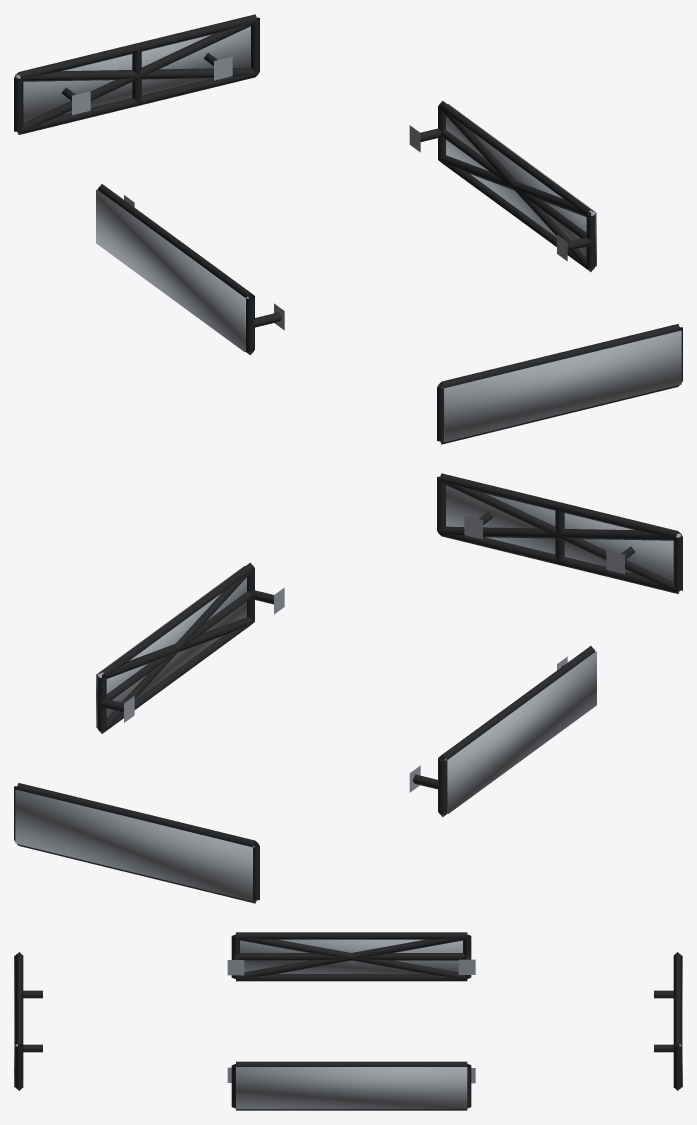
Rendered from vorhaus_ameixa_protecao.glb.
The picture shows the model from 3 angles, top to bottom: view 1: azimuth 30°, elevation 25°; view 2: azimuth 150°, elevation 25°; view 3: azimuth 270°, elevation 25°; orthographic projection. The views are drawn at different scales.
Visible parts, largest first — view 1: Protection_front_Level3_Details, Protection_left_Level3_Details, Protection_rear_Level1_Details, Protection_rear_Level3_Details, Protection_right_Level1_Details, Protection_rear_Level2_Details, Protection_right_Level2_Details, Protection_right_Level3_Details, Protection_front_Level1_Details, Protection_left_Level1_Details; view 2: Protection_rear_Level3_Details, Protection_left_Level3_Details, Protection_front_Level1_Details, Protection_front_Level3_Details, Protection_right_Level1_Details, Protection_front_Level2_Details, Protection_right_Level2_Details, Protection_right_Level3_Details, Protection_rear_Level1_Details, Protection_left_Level1_Details; view 3: Protection_right_Level3_Details, Protection_left_Level2_Details, Protection_left_Level1_Details, Protection_left_Level3_Details, Protection_right_Level1_Details, Protection_rear_Level1_Details, Protection_front_Level1_Details.
Part boxes in pixels (x1=…): Protection_front_Level3_Details: x1=442, y1=330, x2=681, y2=442; Protection_left_Level3_Details: x1=96, y1=189, x2=248, y2=351; Protection_rear_Level1_Details: x1=14, y1=14, x2=259, y2=134; Protection_rear_Level3_Details: x1=15, y1=26, x2=250, y2=122; Protection_right_Level1_Details: x1=409, y1=100, x2=595, y2=271; Protection_rear_Level2_Details: x1=16, y1=21, x2=257, y2=133; Protection_right_Level2_Details: x1=438, y1=107, x2=594, y2=271; Protection_right_Level3_Details: x1=446, y1=104, x2=596, y2=266; Protection_front_Level1_Details: x1=437, y1=324, x2=682, y2=444; Protection_left_Level1_Details: x1=97, y1=184, x2=284, y2=355; Protection_rear_Level3_Details: x1=15, y1=789, x2=254, y2=901; Protection_left_Level3_Details: x1=444, y1=651, x2=596, y2=813; Protection_front_Level1_Details: x1=437, y1=473, x2=682, y2=593; Protection_front_Level3_Details: x1=446, y1=485, x2=681, y2=581; Protection_right_Level1_Details: x1=97, y1=562, x2=284, y2=733; Protection_front_Level2_Details: x1=439, y1=480, x2=680, y2=592; Protection_right_Level2_Details: x1=98, y1=569, x2=254, y2=733; Protection_right_Level3_Details: x1=96, y1=566, x2=246, y2=727; Protection_rear_Level1_Details: x1=14, y1=783, x2=259, y2=903; Protection_left_Level1_Details: x1=409, y1=646, x2=595, y2=817; Protection_right_Level3_Details: x1=236, y1=1067, x2=467, y2=1109; Protection_left_Level2_Details: x1=235, y1=935, x2=467, y2=979; Protection_left_Level1_Details: x1=227, y1=932, x2=475, y2=981; Protection_left_Level3_Details: x1=240, y1=939, x2=462, y2=973; Protection_right_Level1_Details: x1=227, y1=1061, x2=475, y2=1110; Protection_rear_Level1_Details: x1=654, y1=952, x2=681, y2=1090; Protection_front_Level1_Details: x1=15, y1=952, x2=42, y2=1090.
Size of the model in its own units: 2.07 by 0.354 by 4.37.
1 material, 1 textured.
